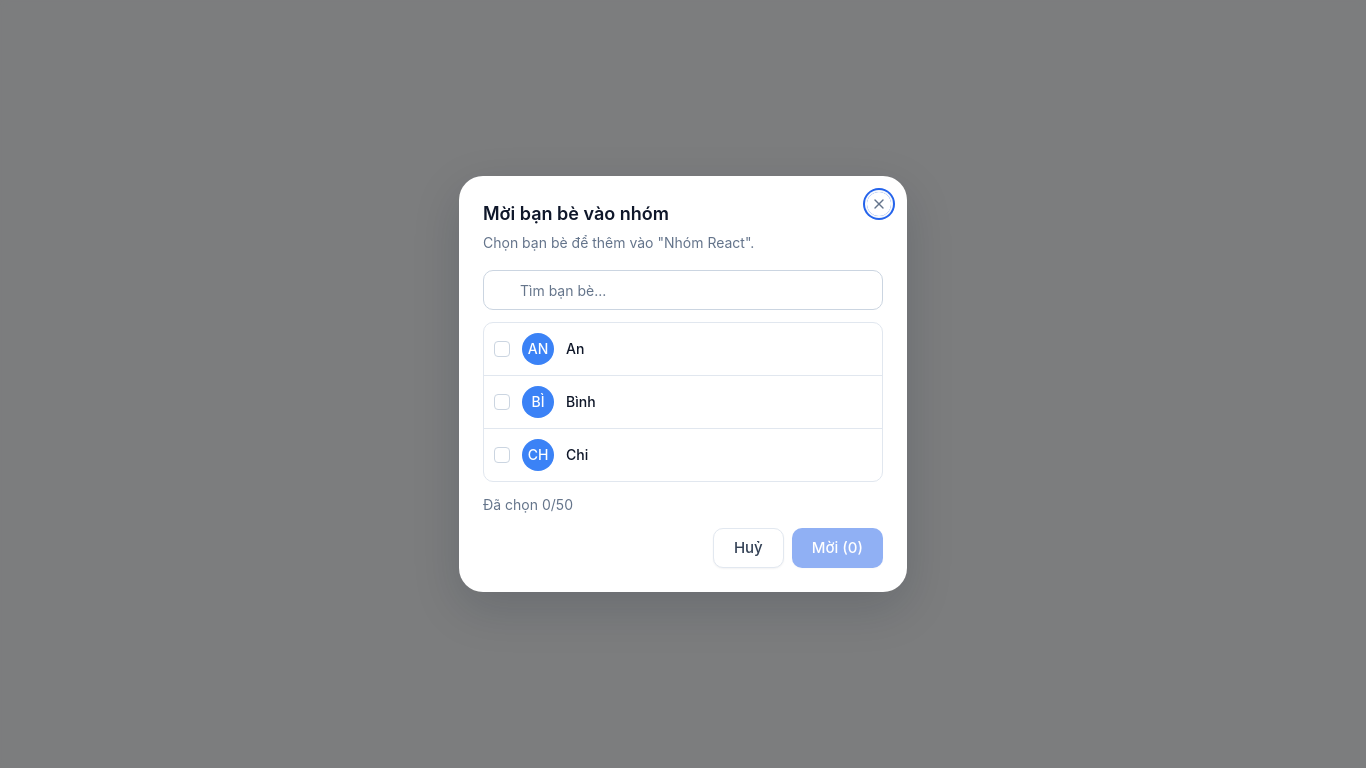
Test: InviteMembersDialog › cảnh báo khi số chọn vượt chỗ trống còn lại của nhóm
What coordinates should you click on to do the following:
click the checkbox labelled "An"
I would click on:
 (502, 349)
Its box is [494, 341, 510, 357].
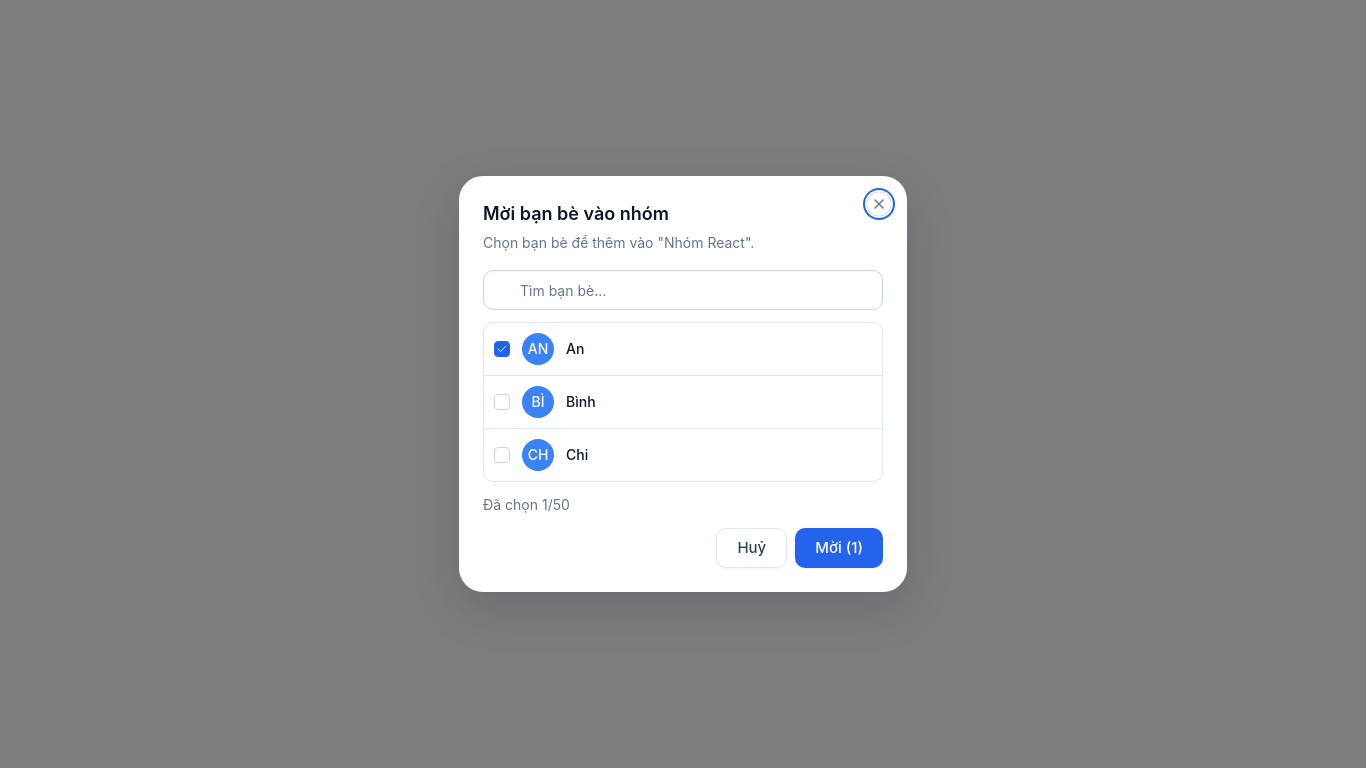
What coordinates should you click on to do the following:
click the checkbox labelled "Bình"
I would click on:
 (502, 402)
Its box is [494, 394, 510, 410].
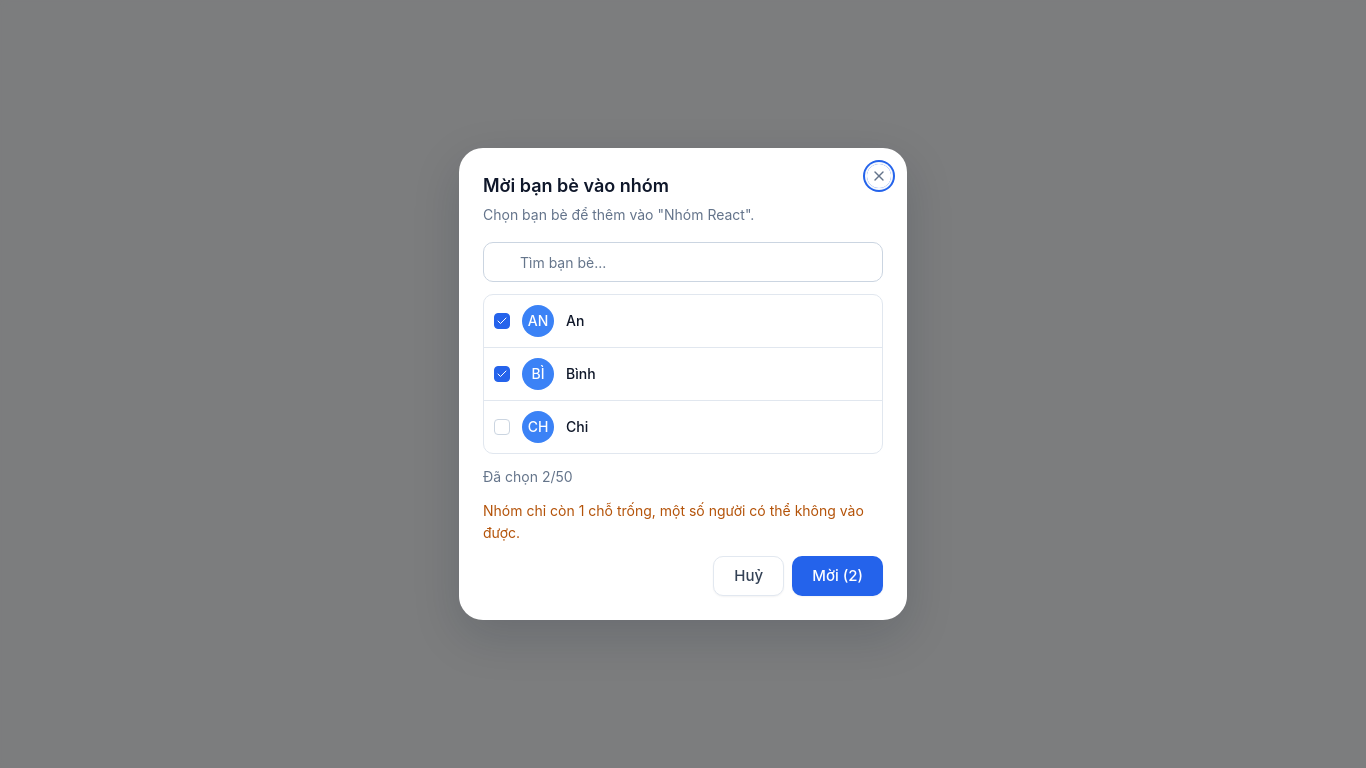
Check: the message shows "còn 1 chỗ trống", box [483, 500, 883, 544]
